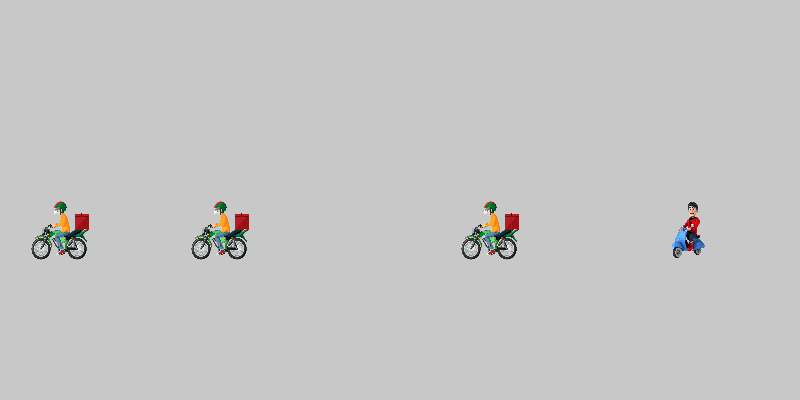helmet: (30, 200, 90, 260), (190, 200, 250, 260), (460, 200, 520, 260)
no_helmet: (660, 200, 720, 260)
